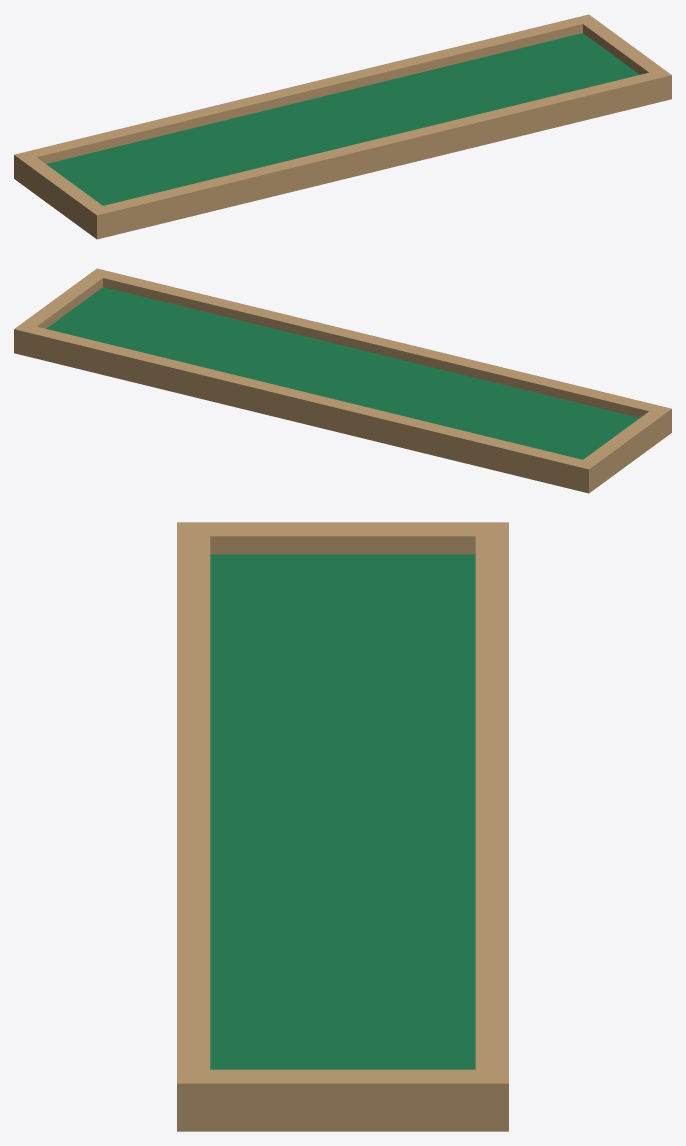
The model's file is place_tree.fbx.
3 views of the same model, one above another, from view 1: azimuth 30°, elevation 25°; view 2: azimuth 150°, elevation 25°; view 3: azimuth 270°, elevation 25° (orthographic). The views are drawn at different scales.
Parts seen in each view (by area): view 1: Cube; view 2: Cube; view 3: Cube.
Boxes of the visible parts, box(x1,y1,x2,y2) form: Cube: box(14, 14, 671, 239); Cube: box(14, 268, 671, 493); Cube: box(177, 522, 508, 1131).
Bounding box in the file's own units: 2000 × 80 × 500.
